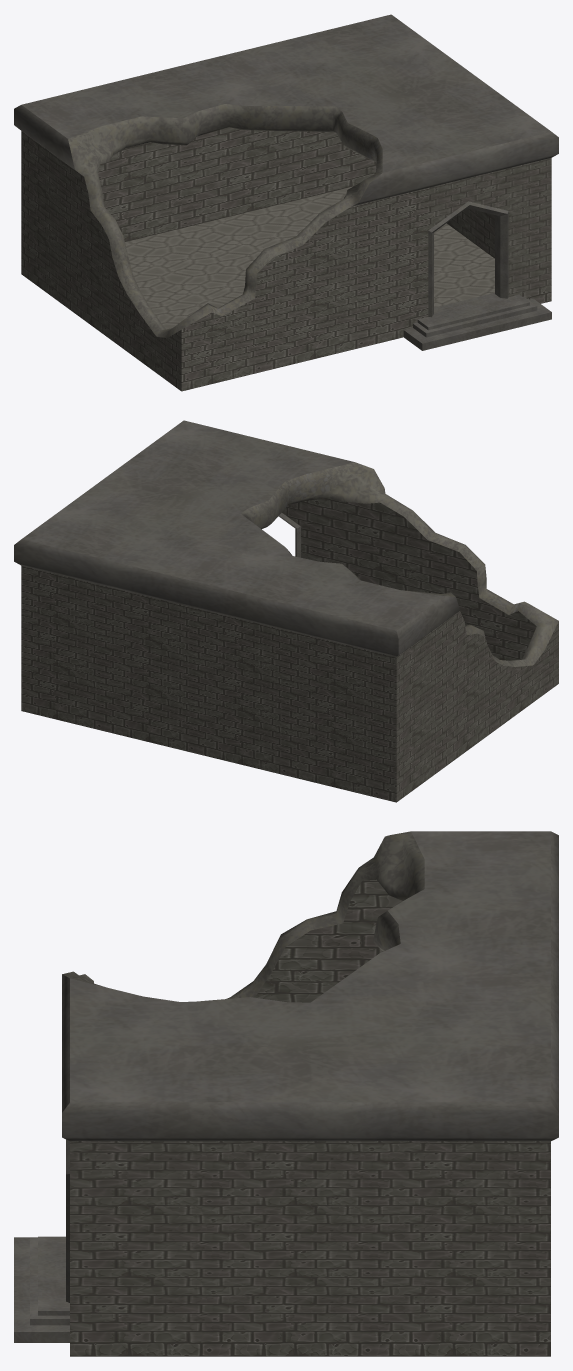
File: Ruins_Building_03.fbx
3 views of the same model, one above another, from view 1: azimuth 30°, elevation 25°; view 2: azimuth 150°, elevation 25°; view 3: azimuth 270°, elevation 25° (orthographic). The views are drawn at different scales.
Visible parts, largest first — view 1: Ruins_Building_03; view 2: Ruins_Building_03; view 3: Ruins_Building_03.
Part boxes in pixels (x1=…): Ruins_Building_03: x1=14, y1=14, x2=558, y2=391; Ruins_Building_03: x1=14, y1=420, x2=558, y2=802; Ruins_Building_03: x1=14, y1=831, x2=558, y2=1356.
Size of the model in its own units: 82 by 35 by 68.
